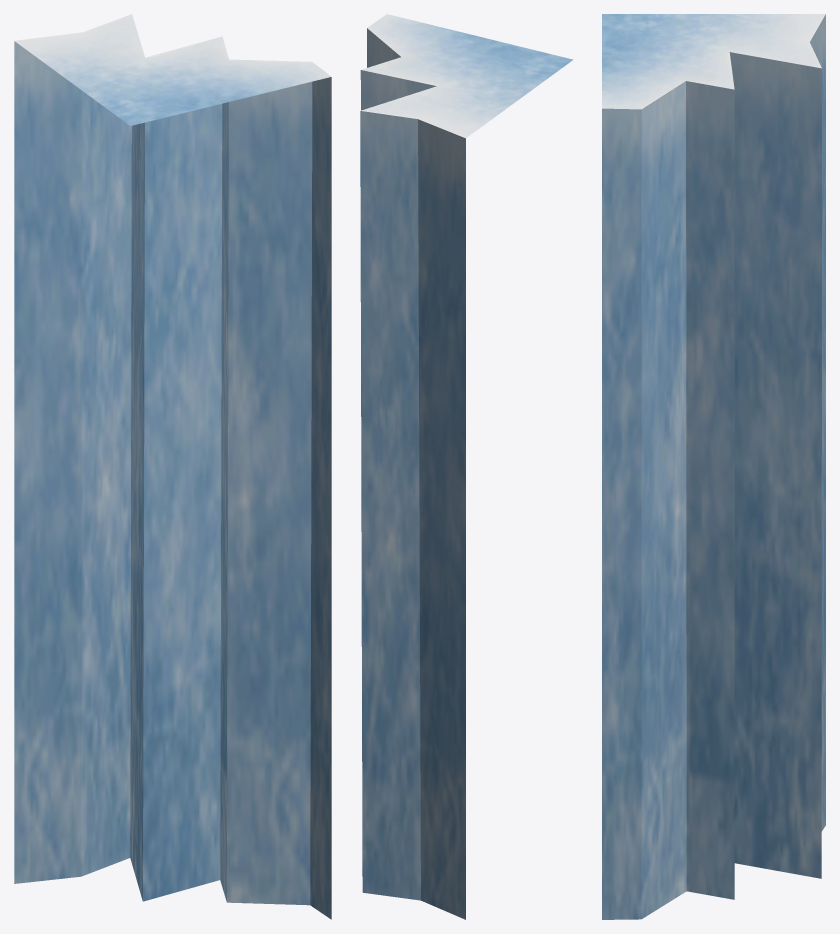
The model's file is Ice_Corner_Outer.fbx.
3 views of the same model, side by side, from view 1: azimuth 30°, elevation 25°; view 2: azimuth 150°, elevation 25°; view 3: azimuth 270°, elevation 25° (orthographic). The views are drawn at different scales.
Parts seen in each view (by area): view 1: Ice_Corner_Outer; view 2: Ice_Corner_Outer; view 3: Ice_Corner_Outer.
Boxes of the visible parts, <box> form: Ice_Corner_Outer: <box>14,14,331,919</box>; Ice_Corner_Outer: <box>360,14,573,919</box>; Ice_Corner_Outer: <box>602,14,825,919</box>.
Size of the model in its own units: 0.6034 by 2.4 by 0.6.
